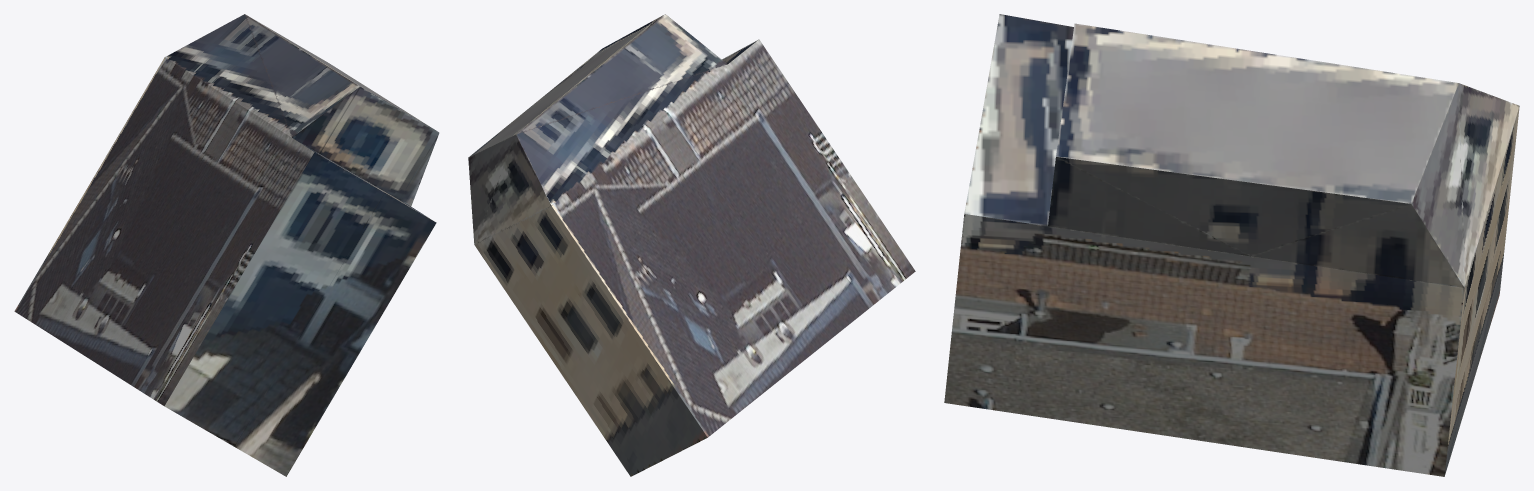
3 views of the same model, side by side, from view 1: azimuth 30°, elevation 25°; view 2: azimuth 150°, elevation 25°; view 3: azimuth 270°, elevation 25° (orthographic). The views are drawn at different scales.
Visible parts, largest first — view 1: BAG_0599100000760479 (×2); view 2: BAG_0599100000760479 (×3); view 3: BAG_0599100000760479 (×3).
Boxes of the visible parts, x1,y1,x2,y2 form: BAG_0599100000760479 (×2): (14, 14, 439, 476); BAG_0599100000760479 (×3): (468, 14, 915, 476); BAG_0599100000760479 (×3): (944, 14, 1519, 476).
Size of the model in its own units: 12.44 by 13.77 by 13.84.
Materials: 1 (1 with a texture image).
